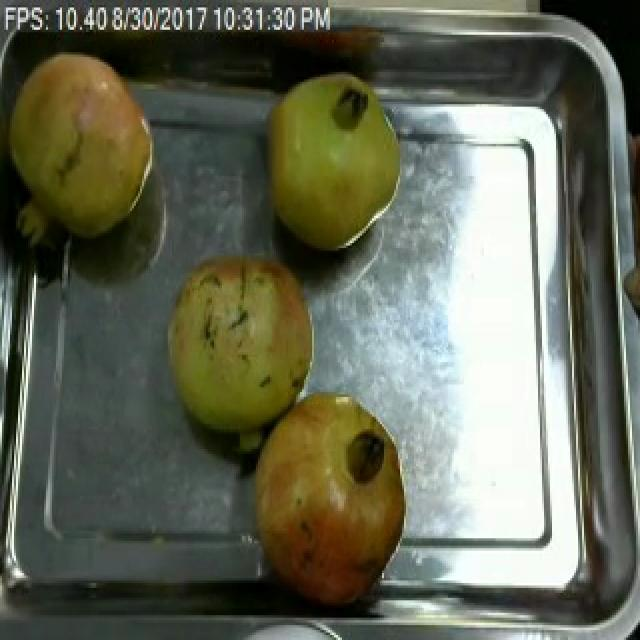fruit: (240, 382, 412, 613), (156, 238, 326, 454), (0, 42, 164, 251), (256, 69, 410, 258)
